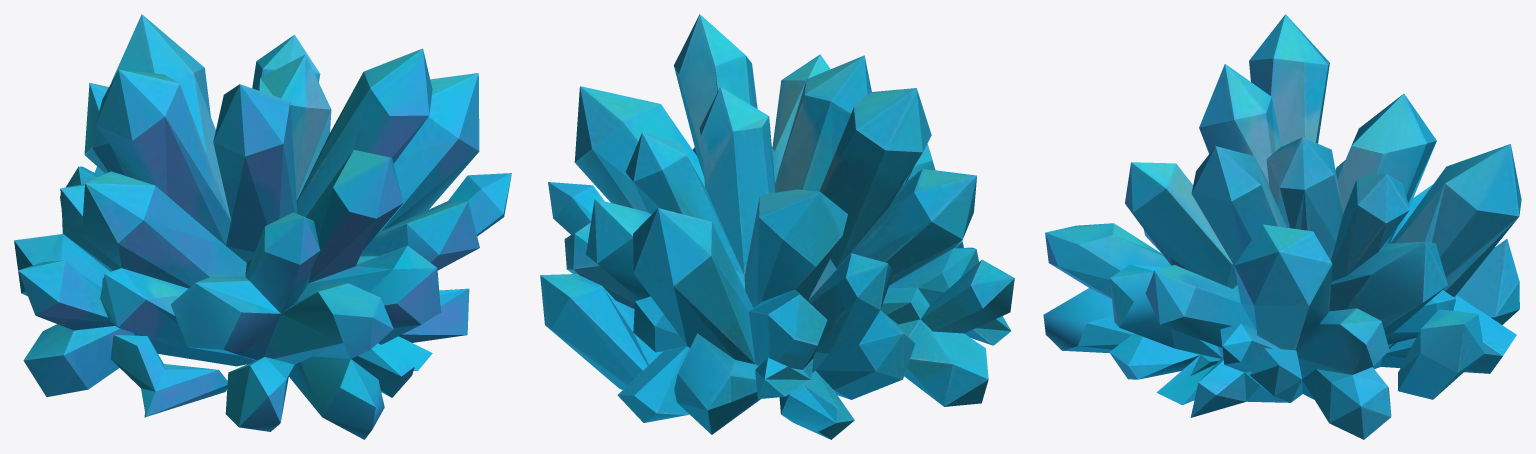
The model's file is crystal.glb.
3 renders of one model, left to right at view 1: azimuth 30°, elevation 25°; view 2: azimuth 150°, elevation 25°; view 3: azimuth 270°, elevation 25°, orthographic. The views are drawn at different scales.
Bounding box in the file's own units: 1.9 × 1.16 × 1.76.
Materials: 1 (1 with a texture image).
